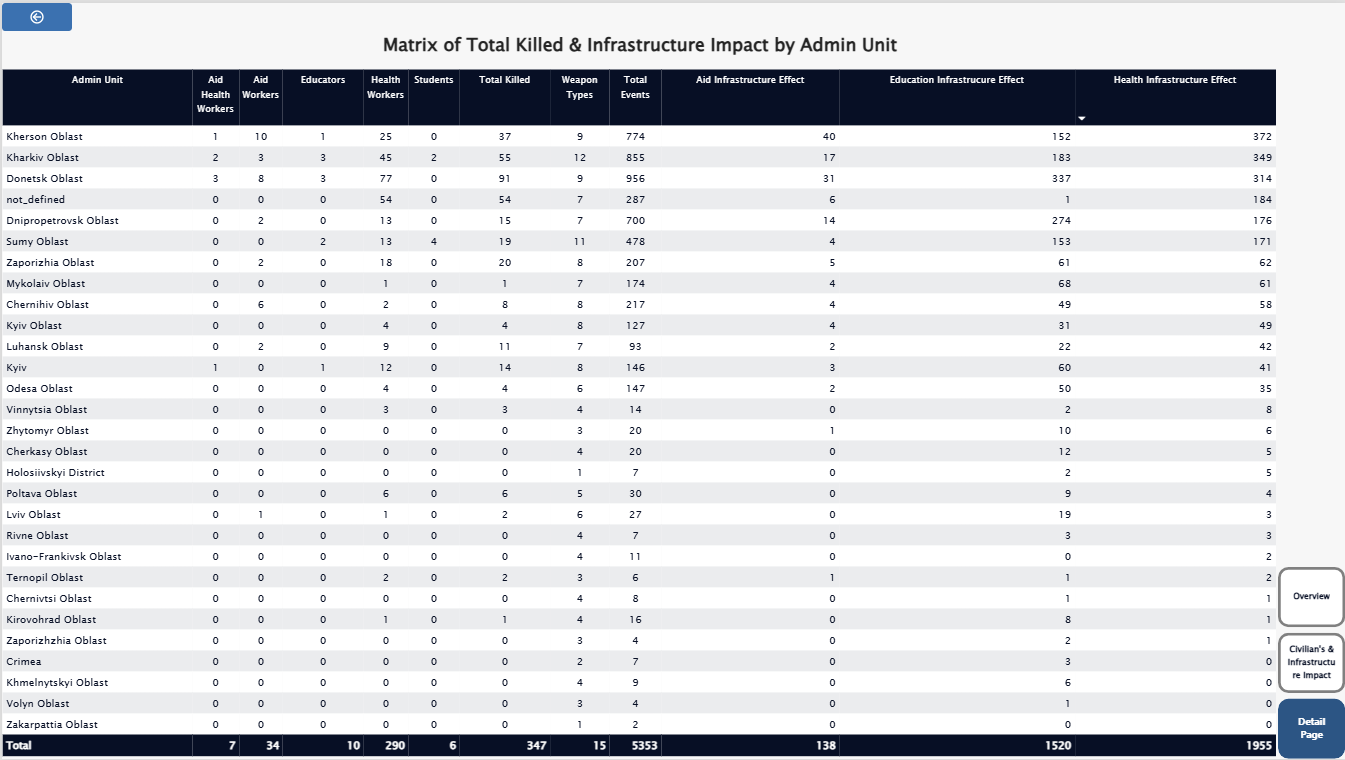

The page's visual inventory and layout, read from the dashboard file:
{"tool":"powerbi","page":{"name":"Detail Page","canvas":[1920,1080],"ordinal":2},"visuals":[{"type":"actionButton","box":[0,0,100,40],"z":0},{"type":"tableEx","title":"Matrix of Total Killed & Infrastructure Impact by Admin Unit","fields":{"Values":["fact_events.admin_unit","Sum(fact_events.aid_health_workers_killed)","Sum(fact_events.aid_workers_killed)","Sum(fact_events.educators_killed)","Sum(fact_events.health_workers_killed)","Sum(fact_events.students_killed)","Sum(fact_events.total_killed)","fact_events.launch_type","CountNonNull(fact_events.SiND_event_id)","Sum(fact_events.aid_infrastucture_effect)","Sum(fact_events.education_infrastucture_effect)","Sum(fact_events.health_infrastucture_effect)"]},"box":[0,40,1822.9,1040],"z":1000},{"type":"pageNavigator","box":[1823.3,805,96.7,275],"z":2000}]}

Visuals, with their boxes in screenshot pixels (x1, y1, x2, y2), scaled from the page's 1920x1080 canvas onto the 1345x760 screenshot:
actionButton: box=[0, 0, 70, 28]
"Matrix of Total Killed & Infrastructure Impact by Admin Unit" tableEx: box=[0, 28, 1277, 759]
pageNavigator: box=[1277, 566, 1344, 759]
